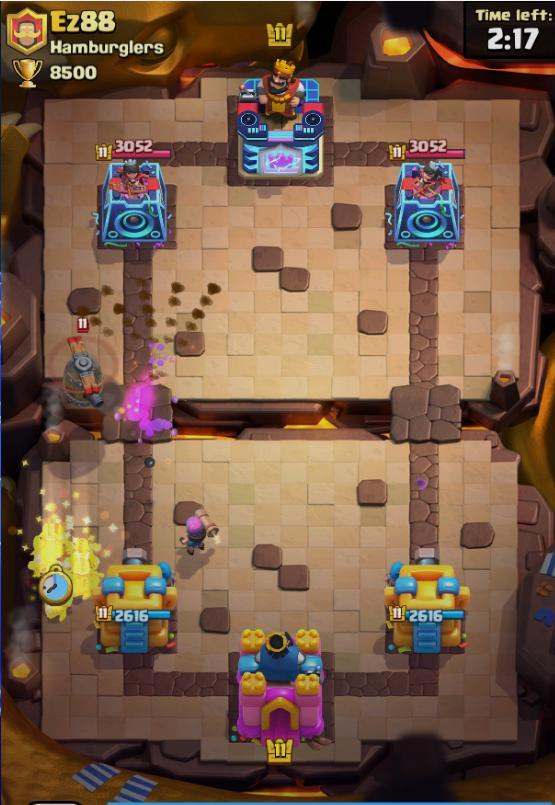EFlyingMachine: (47, 334, 120, 414)
EKingTower: (237, 60, 323, 186)
EnemyPrincessTower: (392, 150, 461, 247), (101, 150, 169, 247)
OCannoneerTower: (89, 548, 182, 658), (383, 545, 475, 655)
OFirecrack: (179, 506, 219, 559)
OwnKingTower: (237, 627, 331, 742)
